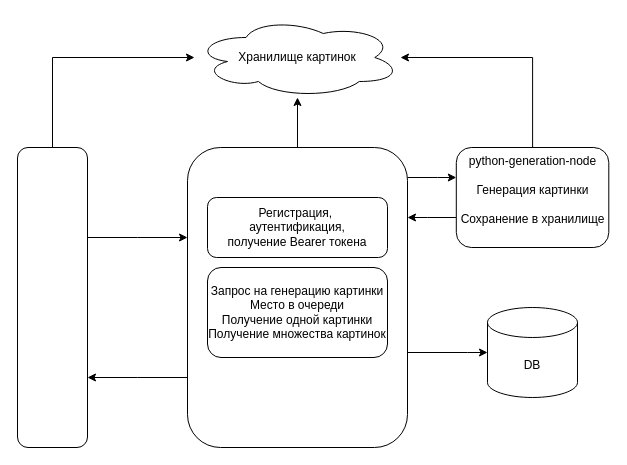
The diagram is 627 pixels wide and 465 high, and some of its shapes have lost their labels. Each missing label, with the box of its shape:
backend service: (186, 146, 408, 448)
frontend: (16, 146, 88, 448)
